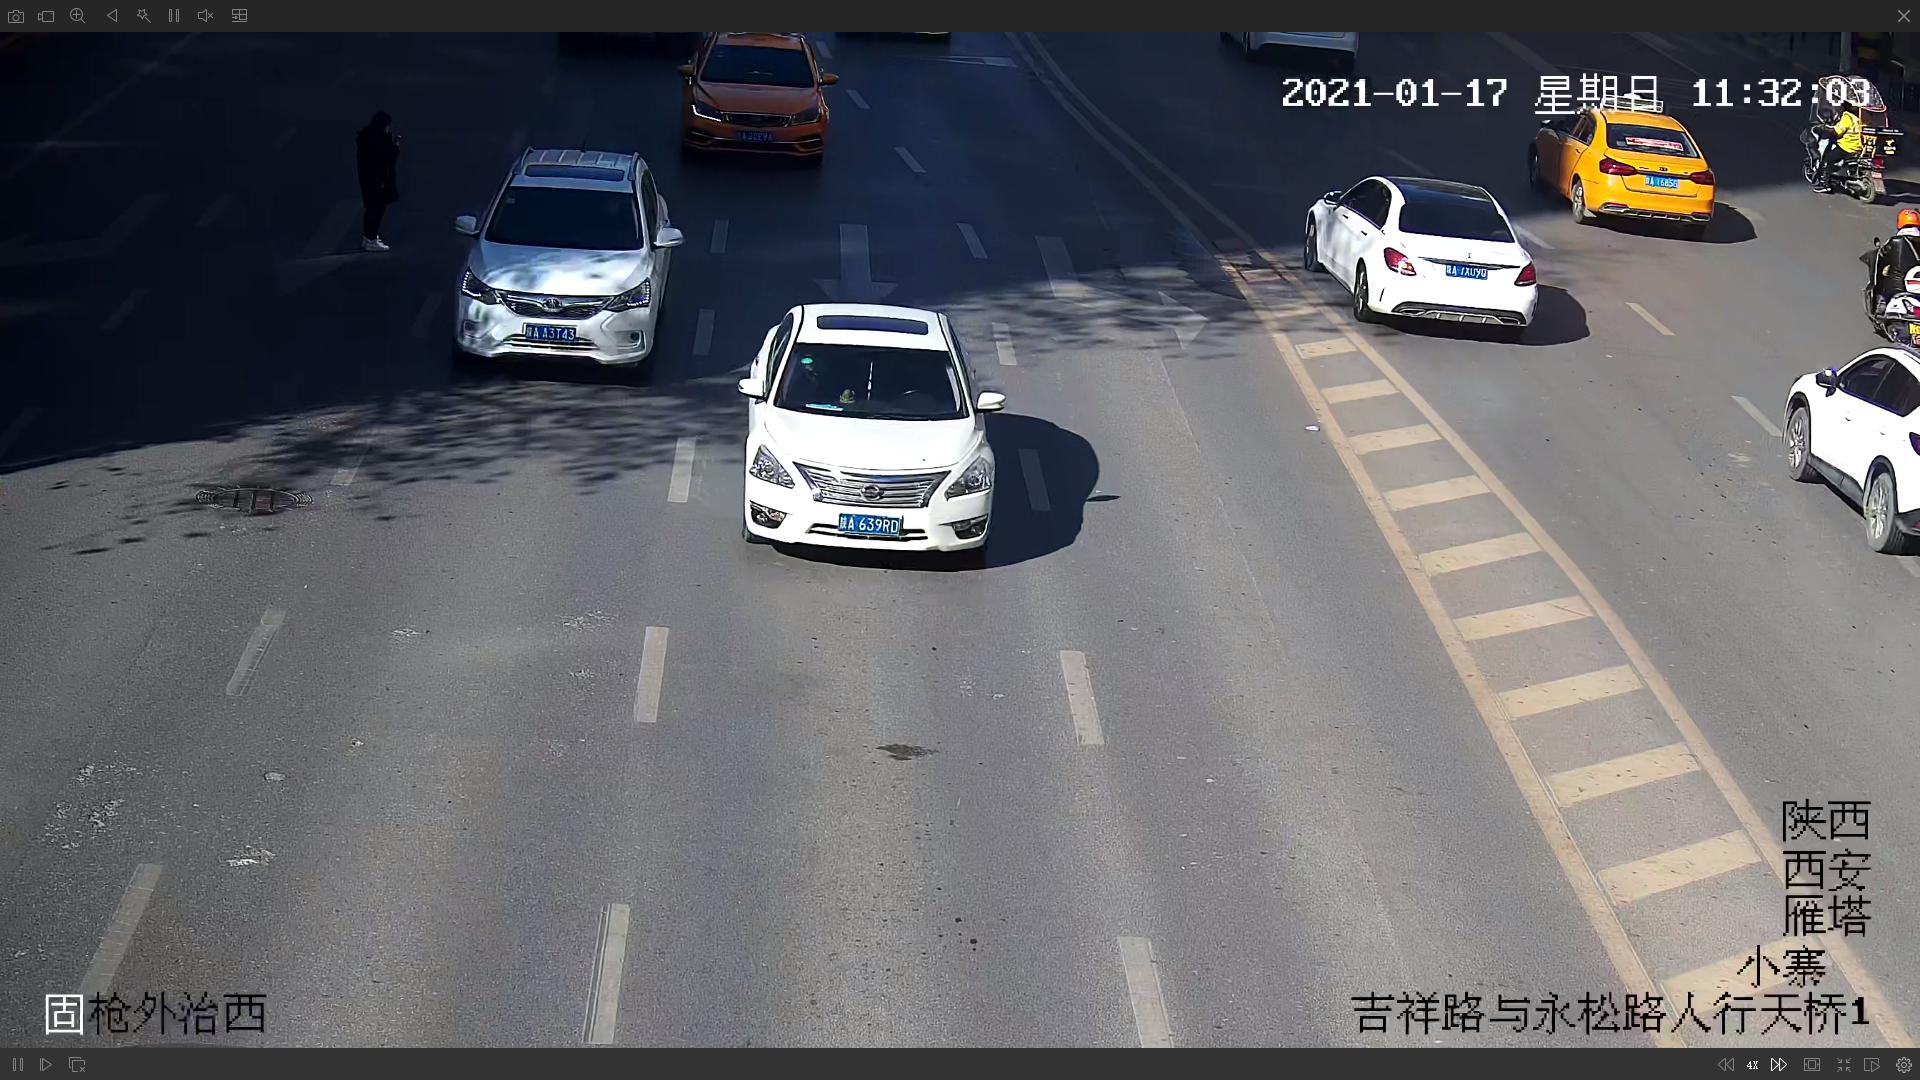white: (735, 301, 1000, 554), (448, 144, 684, 384)
